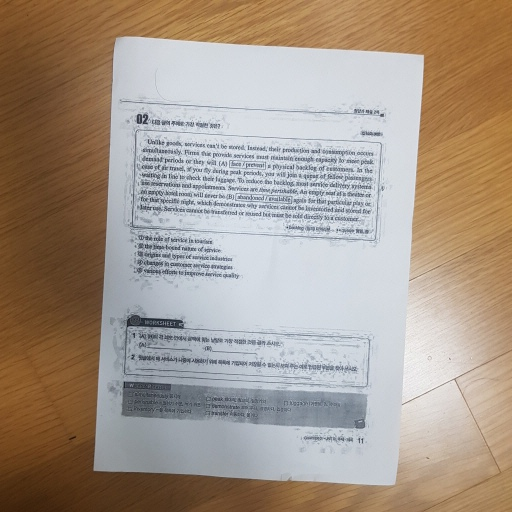Paper_2: (95, 23, 424, 495)
